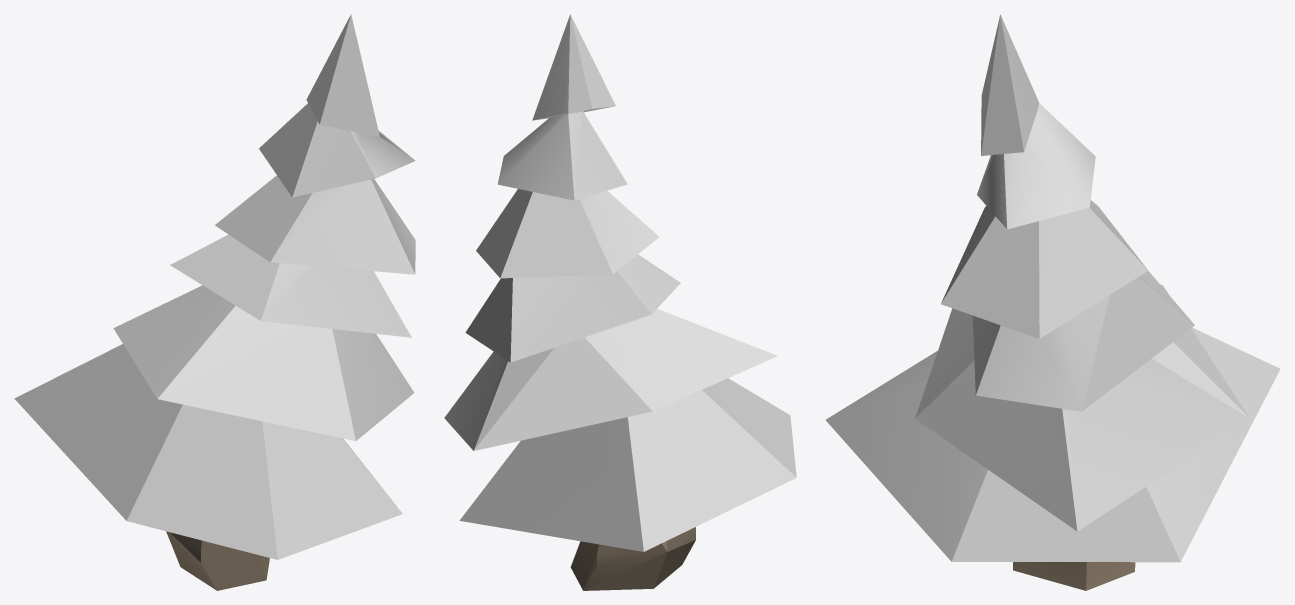
The model's file is Tree_Pine_Snow_03.fbx.
3 views of the same model, side by side, from view 1: azimuth 30°, elevation 25°; view 2: azimuth 150°, elevation 25°; view 3: azimuth 270°, elevation 25° (orthographic). The views are drawn at different scales.
Visible parts, largest first — view 1: Tree_Pine_Snow_03; view 2: Tree_Pine_Snow_03; view 3: Tree_Pine_Snow_03.
Part boxes in pixels (x1,y1,x2,y2): Tree_Pine_Snow_03: (14,14,415,590); Tree_Pine_Snow_03: (444,14,796,590); Tree_Pine_Snow_03: (826,14,1280,590).
Size of the model in its own units: 98.37 by 156 by 108.
